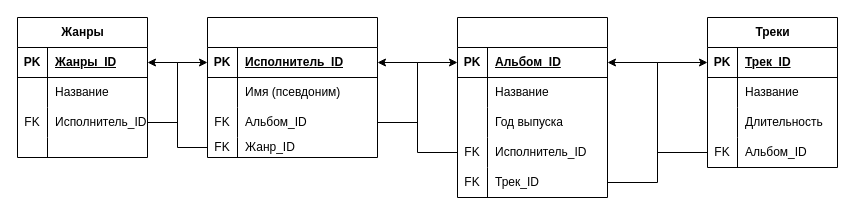
The diagram is 855 pixels wide and 215 high, and some of its shapes have lost their labels. Here are the shapes that lost their labels. From the top down, the box of each, then its label:
(206, 16, 378, 158): Исполнители
(456, 16, 608, 198): Альбомы
